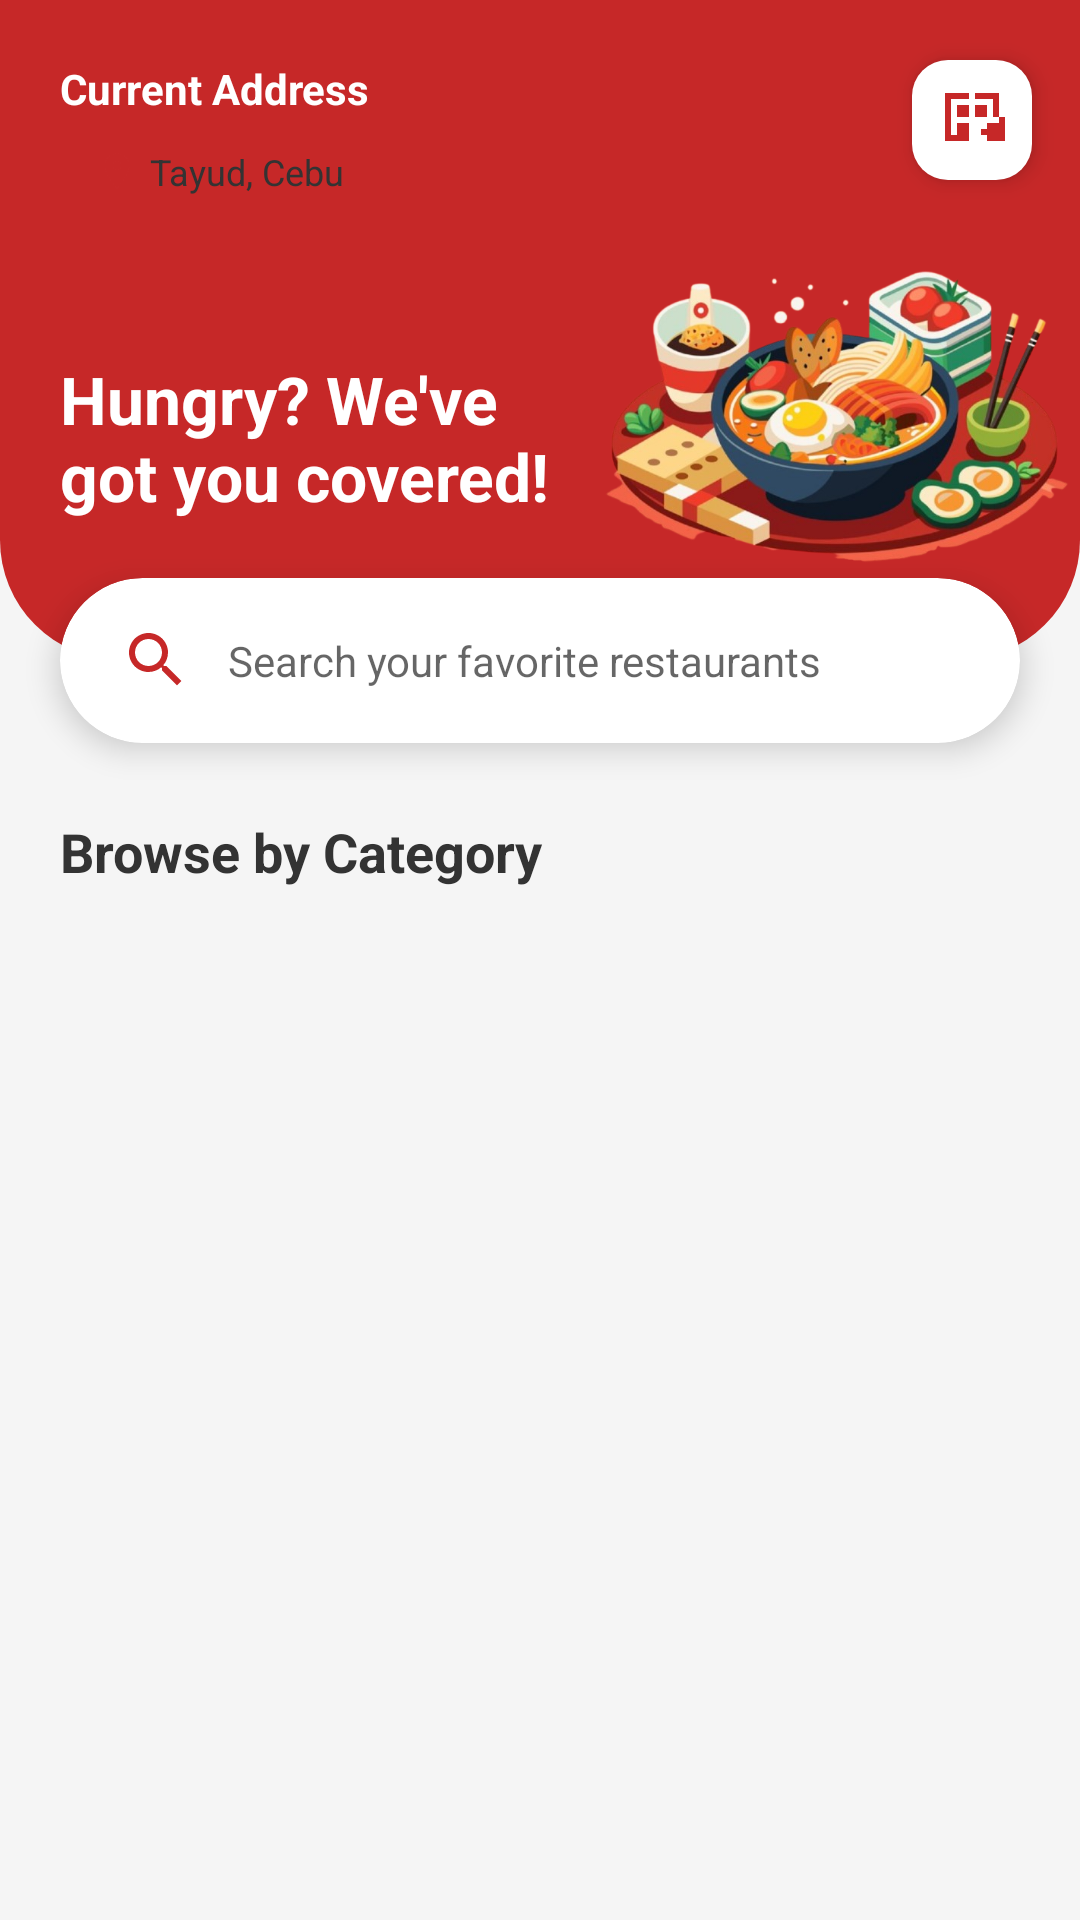

Locate icon controls on the screen. Image size 1080*1920, boxes as bbox(x1, y1, x2, y2).
qr code: bbox(912, 60, 1032, 180)
